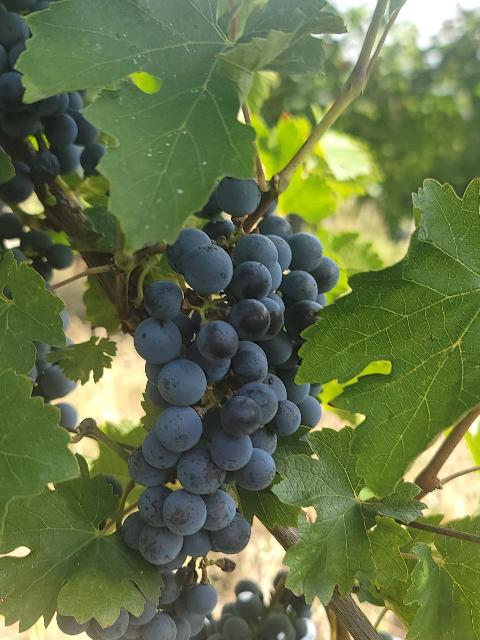grapes: (121, 228, 339, 570)
